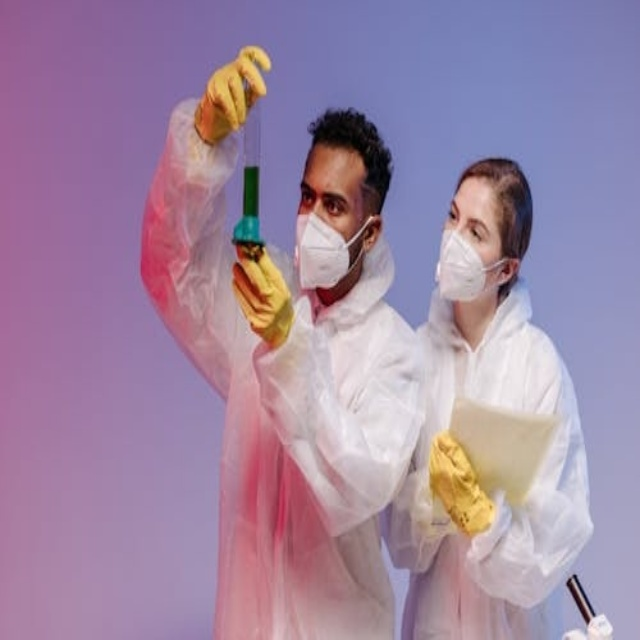Guantes: (194, 44, 273, 145), (428, 431, 496, 537), (232, 243, 295, 348)
Mascara: (296, 210, 371, 290), (436, 227, 506, 303)
Sin_gafas: (444, 192, 497, 249), (291, 169, 356, 215)
